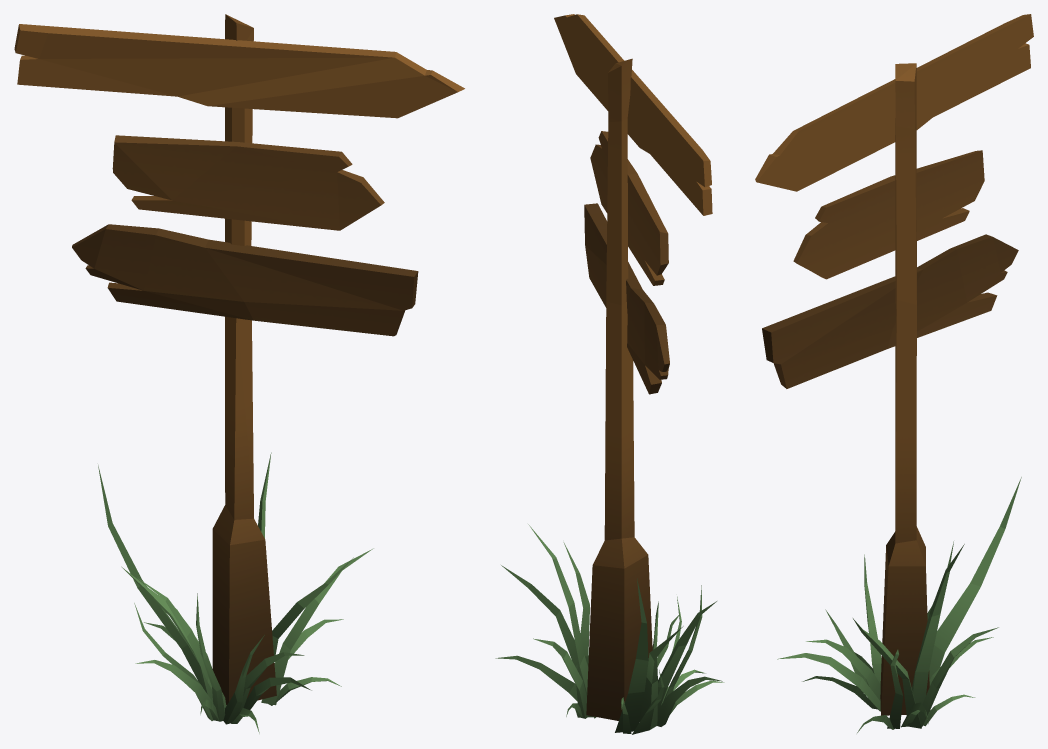
File: menusignes.fbx
3 renders of one model, left to right at view 1: azimuth 30°, elevation 25°; view 2: azimuth 150°, elevation 25°; view 3: azimuth 270°, elevation 25°, orthographic. The views are drawn at different scales.
Visible parts, largest first — view 1: group1; view 2: group1; view 3: group1.
Boxes of the visible parts, x1,y1,x2,y2 form: group1: (14, 14, 464, 733); group1: (495, 14, 724, 734); group1: (755, 14, 1033, 732).
Size of the model in its own units: 125 by 268 by 104.
